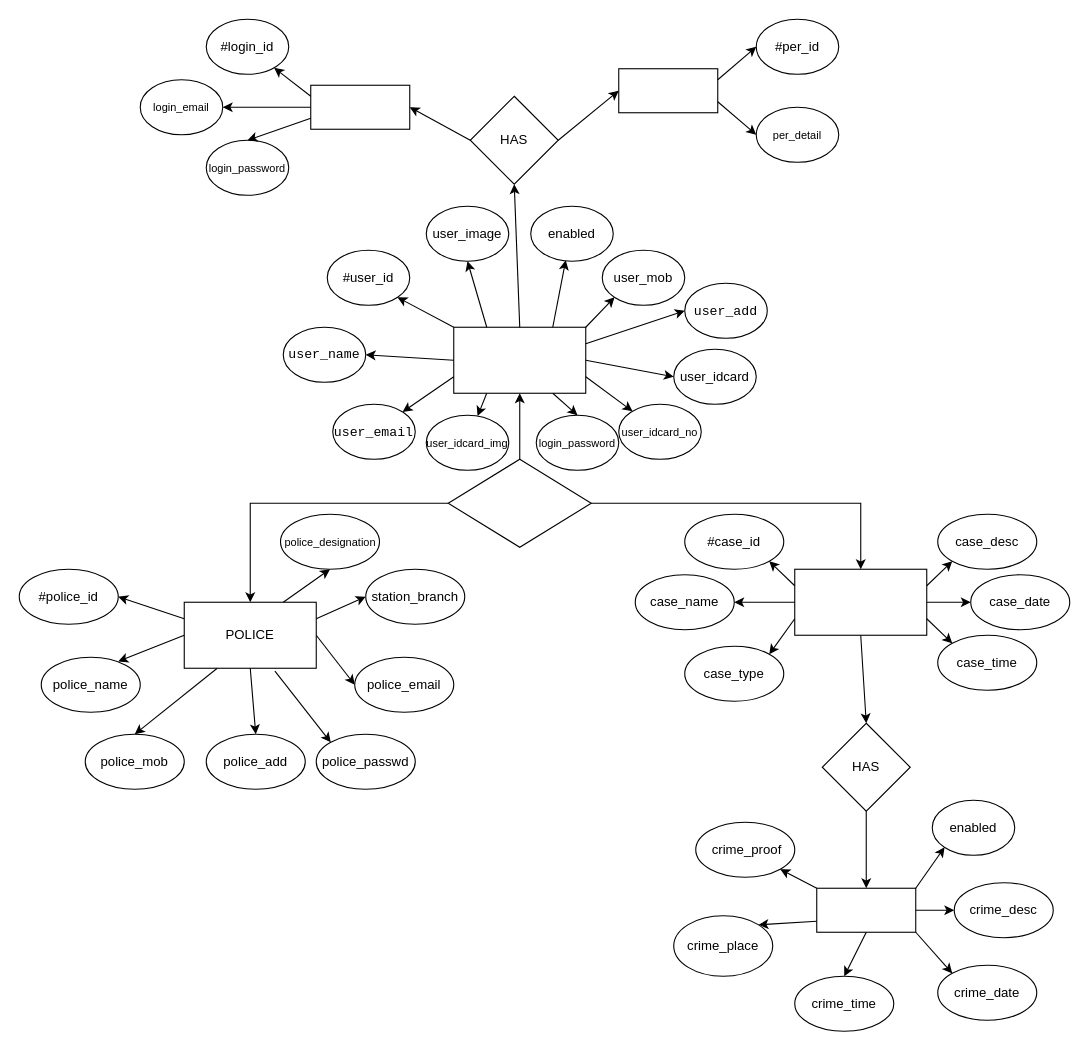
Image size: 1089x1051. Some labels were removed from this diagram. Here are the shapes that lost their labels. From the top down, the centre of each, then its label:
[360,106]: LOGIN
[668,90]: PERMISONS
[519,359]: USER
[519,502]: ADMIN
[860,601]: CASE
[866,909]: CRIME
